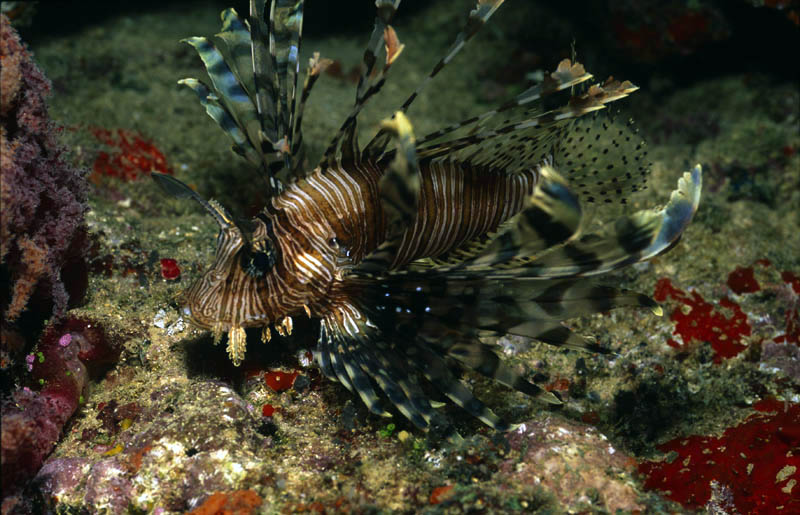Pterois_volitans: (136, 54, 653, 437)
